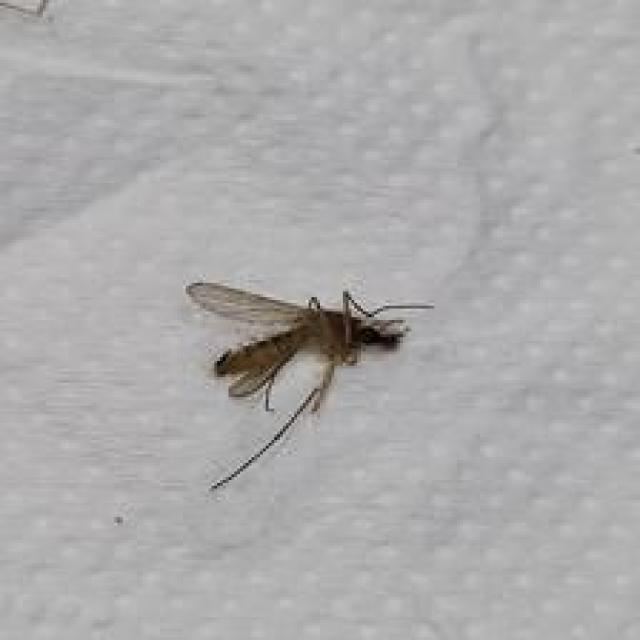Culex: (183, 278, 434, 493)
